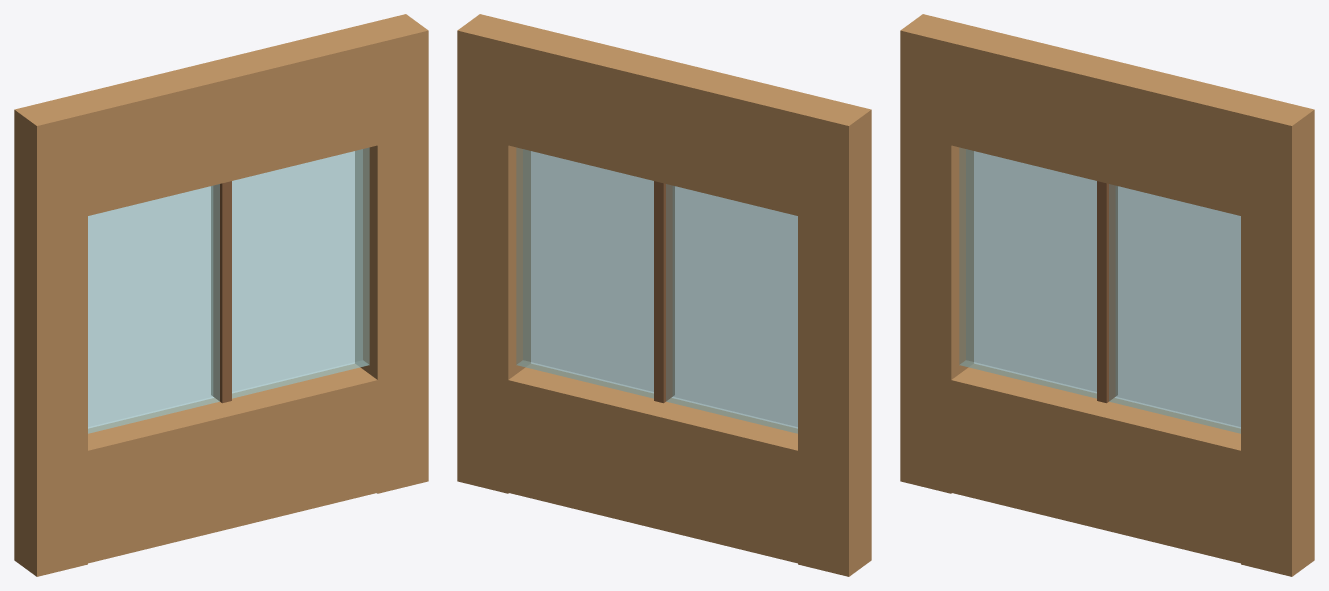
Rendered from wallWindow.glb.
The picture shows the model from 3 angles, left to right: view 1: azimuth 30°, elevation 25°; view 2: azimuth 150°, elevation 25°; view 3: azimuth 330°, elevation 25°; orthographic projection.
Size of the model in its own units: 2 by 2.2 by 0.2.
